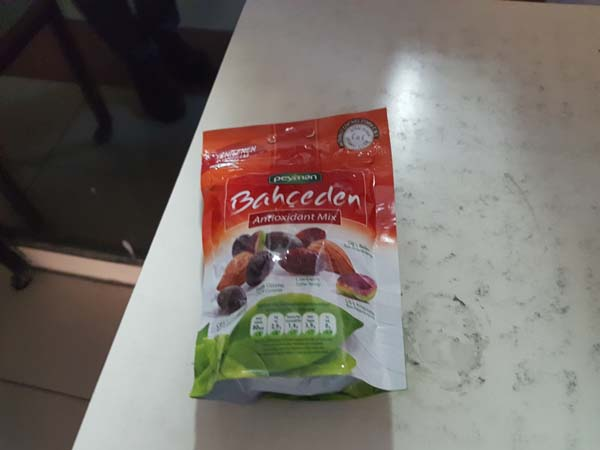bahcedenantioxidan: (185, 95, 418, 402)
